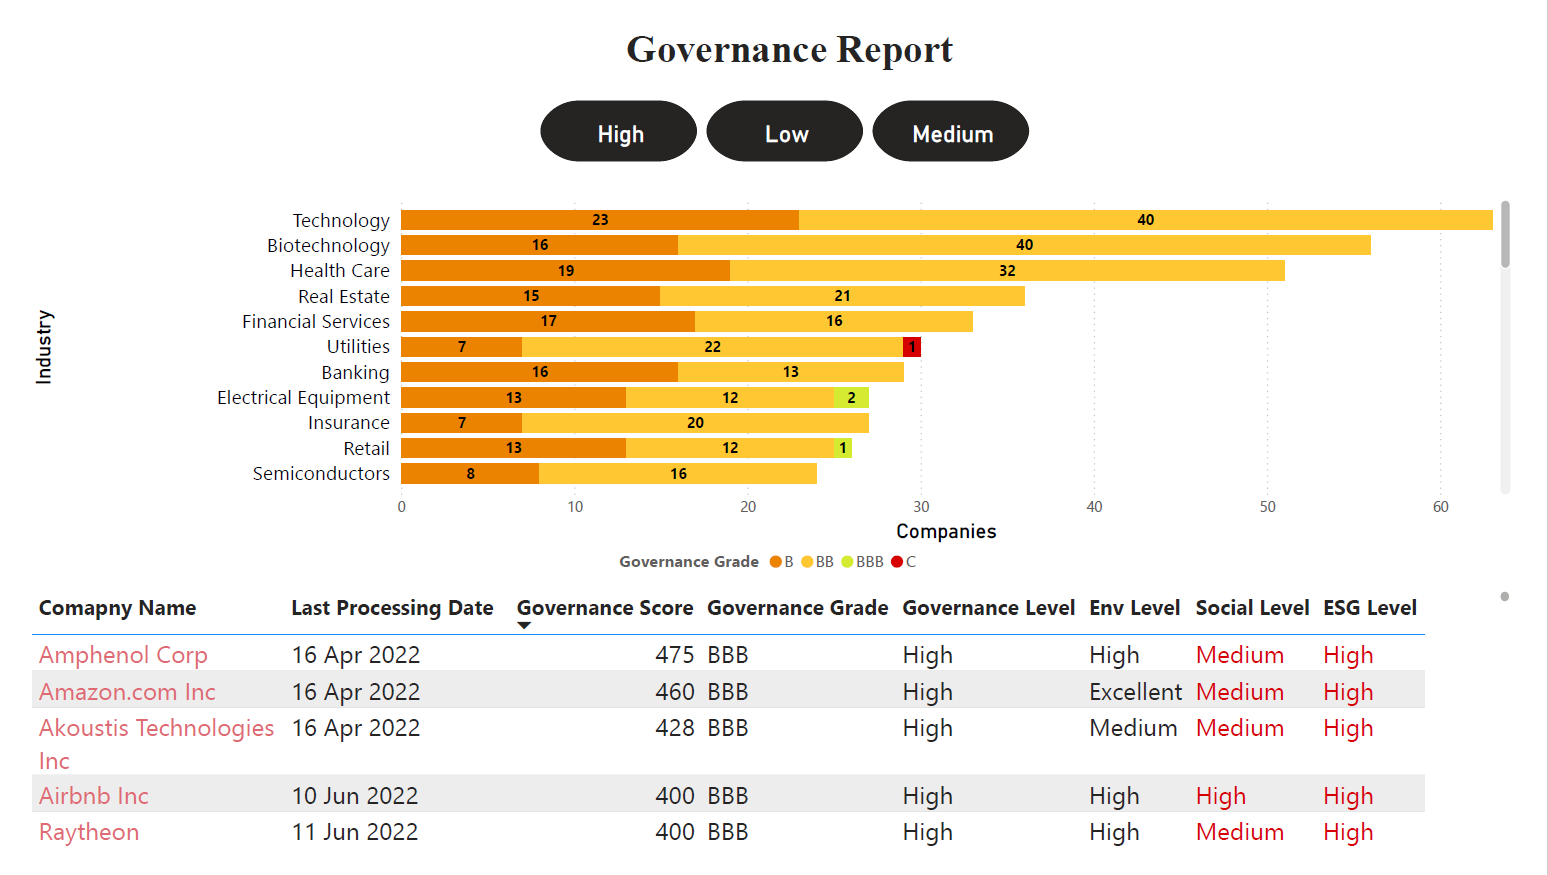

This screenshot's page, from the dashboard's own definition file:
{"tool":"powerbi","page":{"name":"Governance Report","canvas":[1280,720],"ordinal":4},"visuals":[{"type":"barChart","fields":{"Category":["data.industry"],"Y":["CountNonNull(data.name)"],"Series":["data.Governance Grade"]},"box":[25,151.7,1230,330],"z":0},{"type":"tableEx","title":"List of top Social Companies","fields":{"Values":["data.name","data.Last Processing Date","data.Governance Score","data.Governance Grade","data.Governance Level","data.Env Level","data.Social Level","data.ESG Level"]},"box":[25,481.7,1230,223.3],"z":1000},{"type":"textbox","box":[398.3,16.7,515,61.7],"z":2000},{"type":"advancedSlicerVisual","fields":{"Values":["data.Governance Level"]},"box":[445,78.3,551.7,60],"z":3000}]}

Visuals, with their boxes in screenshot pixels (x1, y1, x2, y2), scaled from the page's 1280x720 canvas onto the 1548x875 screenshot:
barChart - data.industry x CountNonNull(data.name): 30, 184, 1518, 585
"List of top Social Companies" tableEx: 30, 585, 1518, 857
textbox: 482, 20, 1105, 95
advancedSlicerVisual - data.Governance Level: 538, 95, 1205, 168
